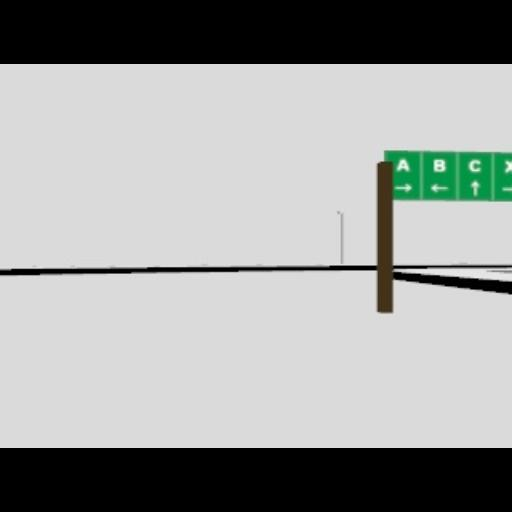A: (395, 158, 409, 172)
B: (432, 158, 444, 172)
C: (467, 158, 481, 172)
Left: (428, 182, 448, 192), (500, 185, 512, 193)
Right: (393, 182, 411, 192)
Straight: (470, 179, 480, 195)
Y: (506, 160, 512, 172)
